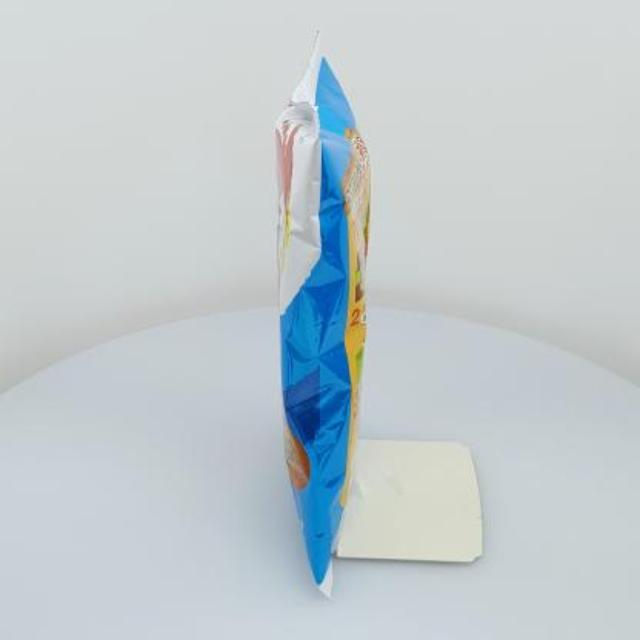snack_bag: (215, 20, 401, 604)
